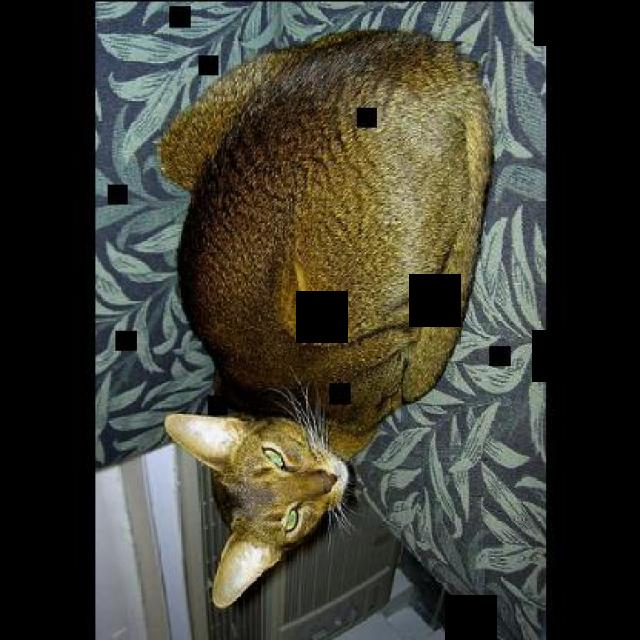unauthorized: (155, 26, 494, 609), (162, 378, 358, 611)
